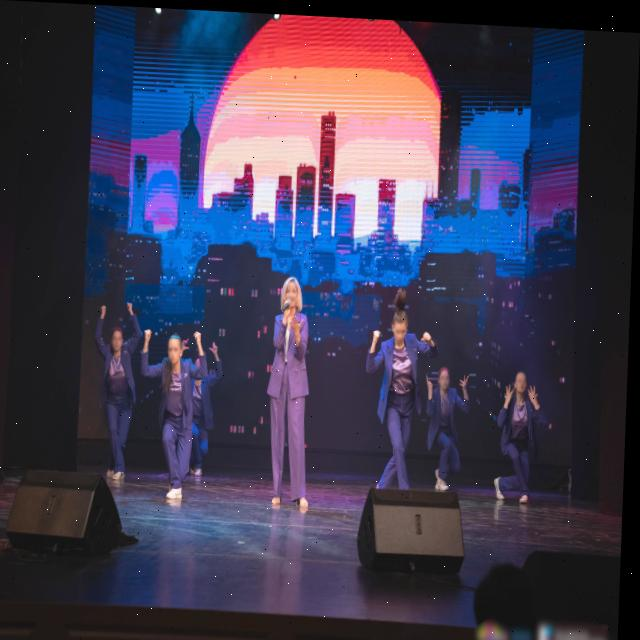Person: (348, 282, 434, 500), (267, 263, 322, 518), (87, 293, 147, 484), (491, 349, 560, 514), (154, 318, 210, 513), (428, 339, 483, 492), (186, 340, 234, 476)
